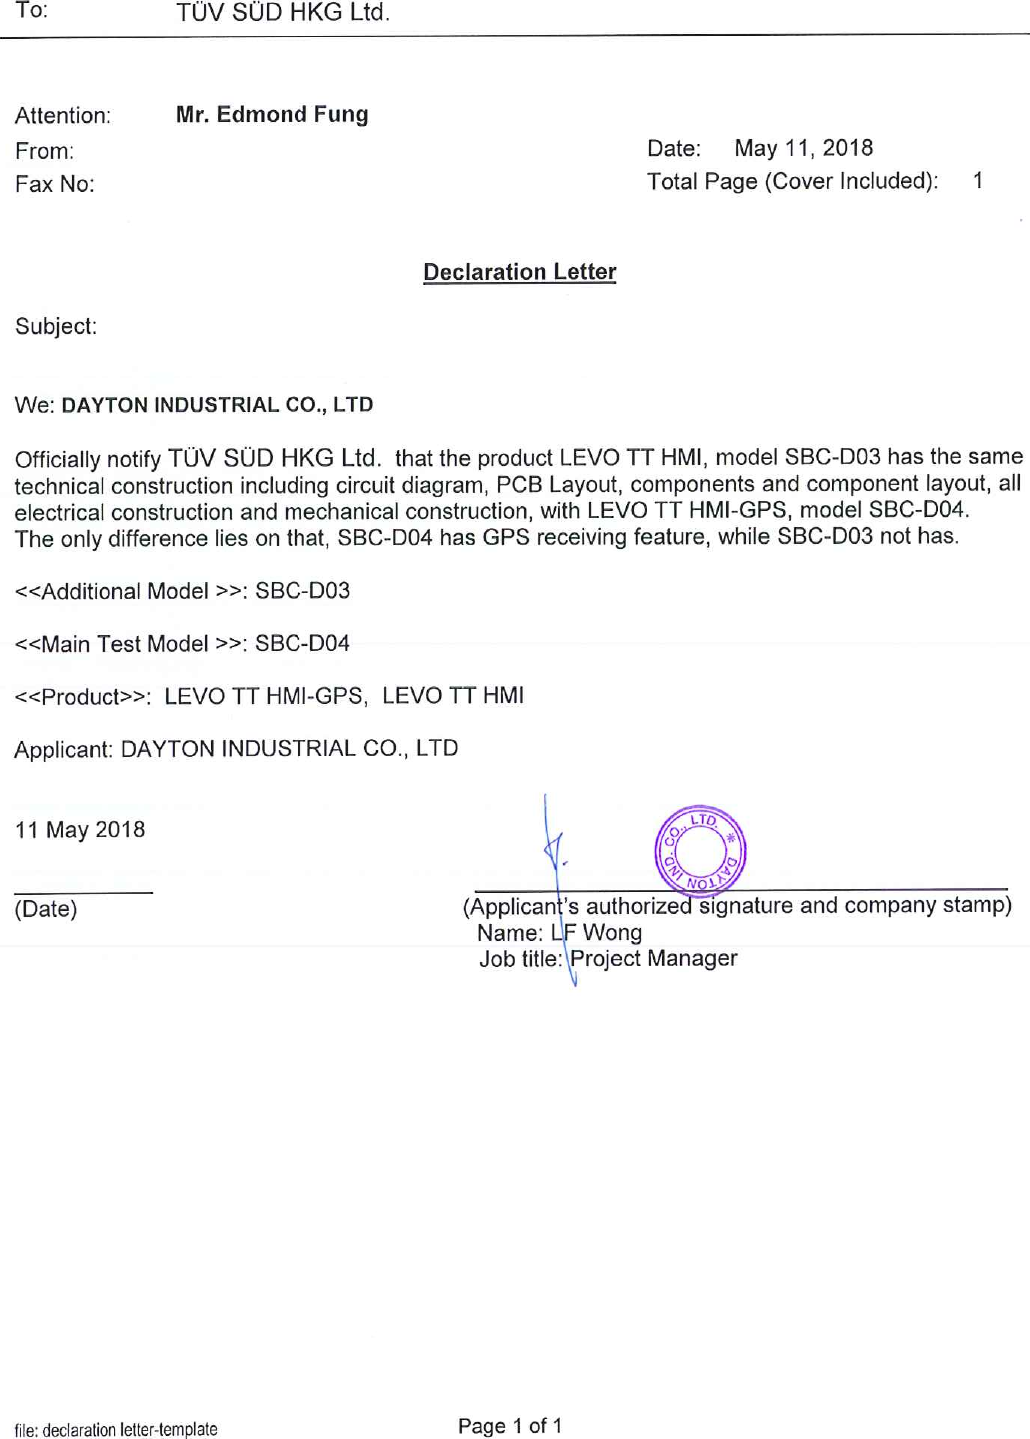Round chop: (649, 797, 749, 906)
